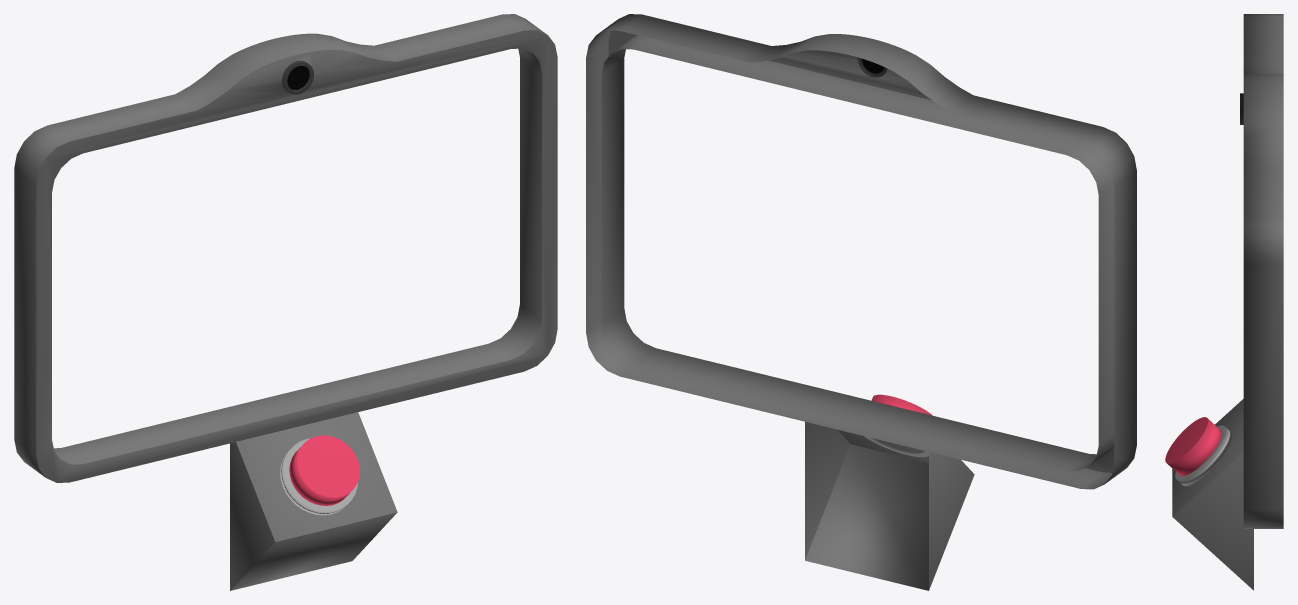
Rendered from TVButton.fbx.
The picture shows the model from 3 angles, left to right: view 1: azimuth 30°, elevation 25°; view 2: azimuth 150°, elevation 25°; view 3: azimuth 270°, elevation 25°; orthographic projection. The views are drawn at different scales.
Parts seen in each view (by area): view 1: Tv, Sostein, Border, Button; view 2: Tv, Sostein; view 3: Tv, Sostein, Border, Button.
Part boxes in pixels (x1,y1,x2,y2): Tv: [14, 14, 557, 482]; Sostein: [230, 412, 397, 590]; Border: [289, 435, 359, 505]; Button: [280, 438, 357, 515]; Tv: [586, 14, 1136, 489]; Sostein: [805, 422, 974, 590]; Tv: [1240, 14, 1283, 528]; Sostein: [1172, 399, 1253, 590]; Border: [1165, 417, 1221, 476]; Button: [1175, 425, 1232, 486].
Size of the model in its own units: 320 by 308 by 69.71.
